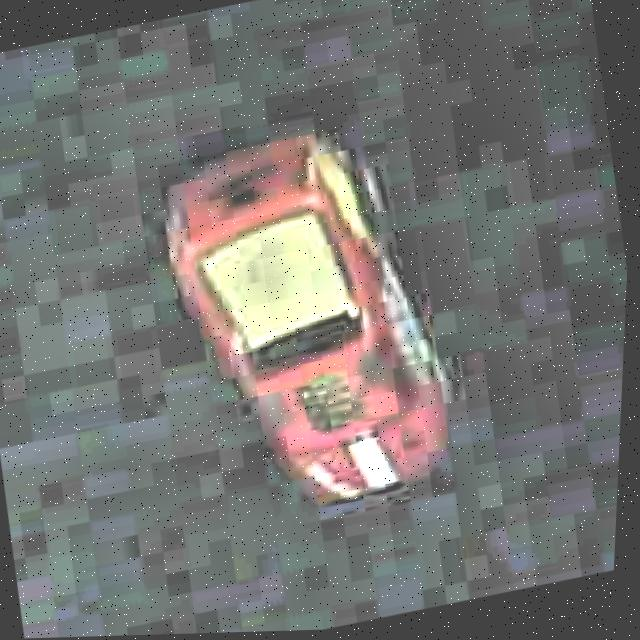car: (128, 95, 481, 539)
